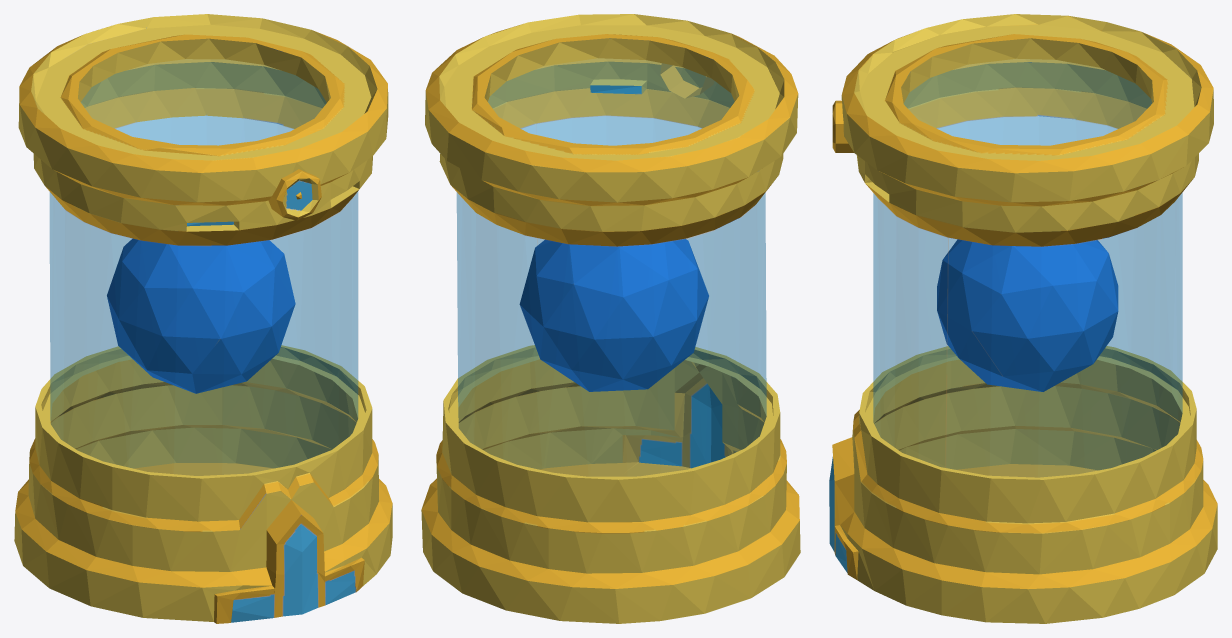
The model's file is life_tank.obj.
3 views of the same model, side by side, from view 1: azimuth 30°, elevation 25°; view 2: azimuth 150°, elevation 25°; view 3: azimuth 270°, elevation 25° (orthographic).
Visible parts, largest first — view 1: Cylinder; view 2: Cylinder; view 3: Cylinder.
Boxes of the visible parts, <box> form: Cylinder: <box>14,14,392,623</box>; Cylinder: <box>421,14,800,623</box>; Cylinder: <box>829,14,1217,623</box>.
Size of the model in its own units: 2 by 2.66 by 2.05.
Materials: 5 (5 with a texture image).
